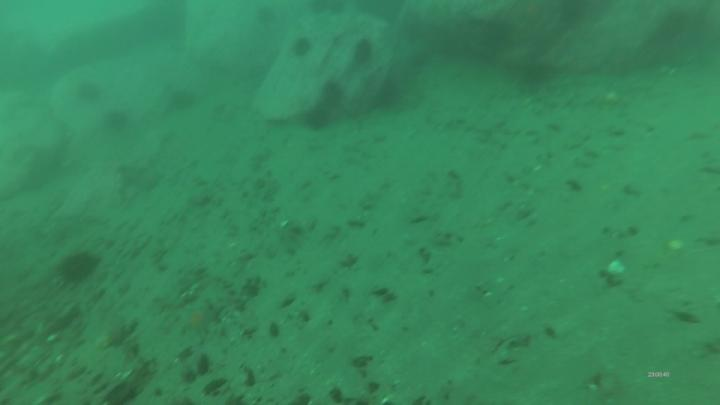echinus: (61, 253, 96, 284), (522, 67, 548, 85), (324, 84, 345, 104), (305, 113, 329, 130), (108, 110, 127, 129), (355, 40, 372, 61), (173, 93, 192, 110), (80, 86, 99, 99), (296, 38, 308, 54)
starfish: (179, 307, 215, 338)
